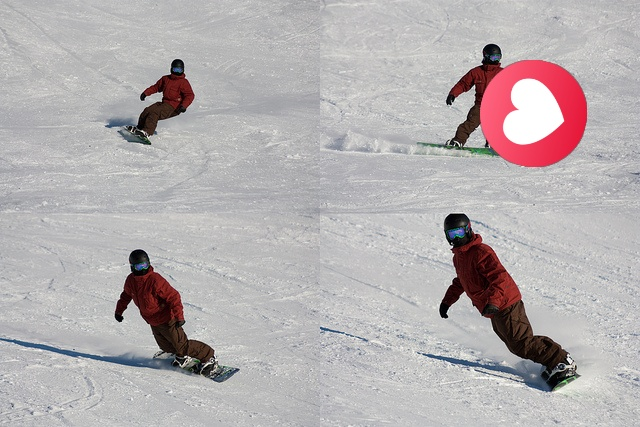love: (480, 60, 587, 167)
